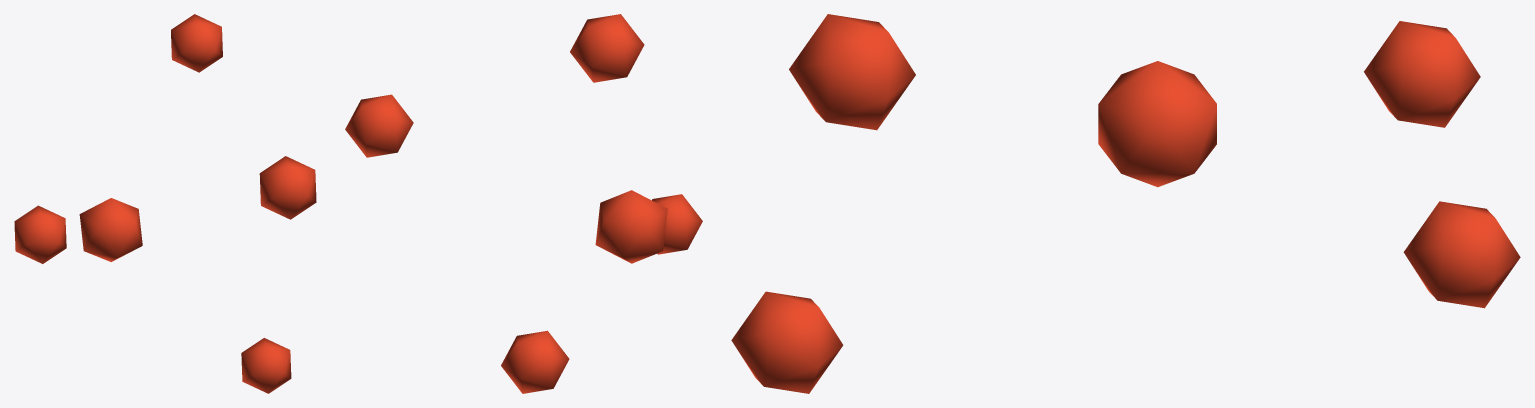
Rendered from Berries.fbx.
3 views of the same model, side by side, from view 1: azimuth 30°, elevation 25°; view 2: azimuth 150°, elevation 25°; view 3: azimuth 270°, elevation 25° (orthographic). The views are drawn at different scales.
Visible parts, largest first — view 1: Fruits; view 2: Fruits; view 3: Fruits.
Boxes of the visible parts, x1=… form: Fruits: x1=14, y1=14, x2=316, y2=393; Fruits: x1=345, y1=14, x2=702, y2=393; Fruits: x1=731, y1=14, x2=1520, y2=393.
Bounding box in the file's own units: 390 × 423 × 671.
1 material, 1 textured.
